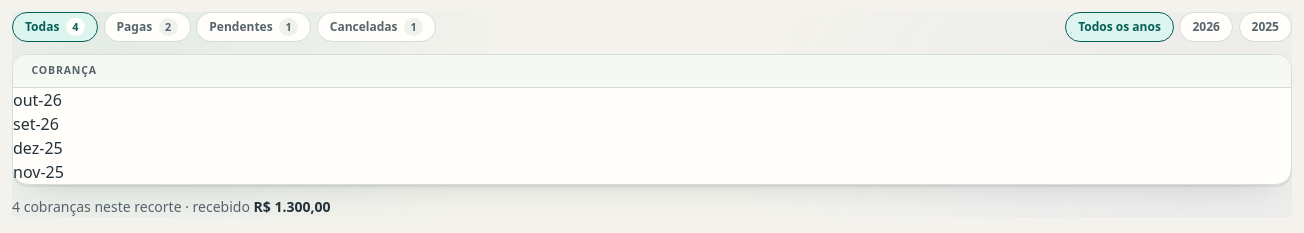
client charge history › explica quando o recorte fica vazio
The width and height of the screenshot is (1304, 233).
Click the button "Pendentes 1": [254, 27] box [196,12,311,42]
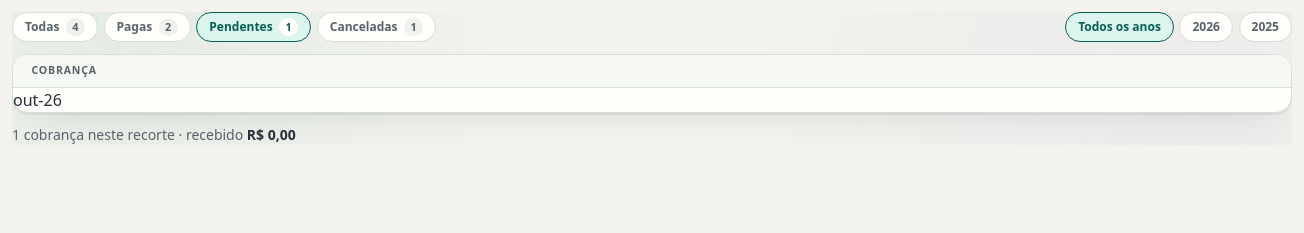
Click the button "2025": [1265, 27] box [1238,12,1292,42]
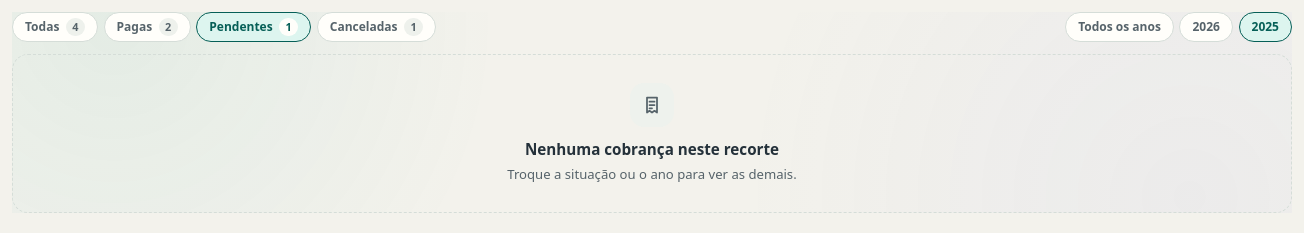
Now the text with test id "row" is gone
Now the text "Nenhuma cobrança neste recorte" is shown, box [525,138,779,161]
